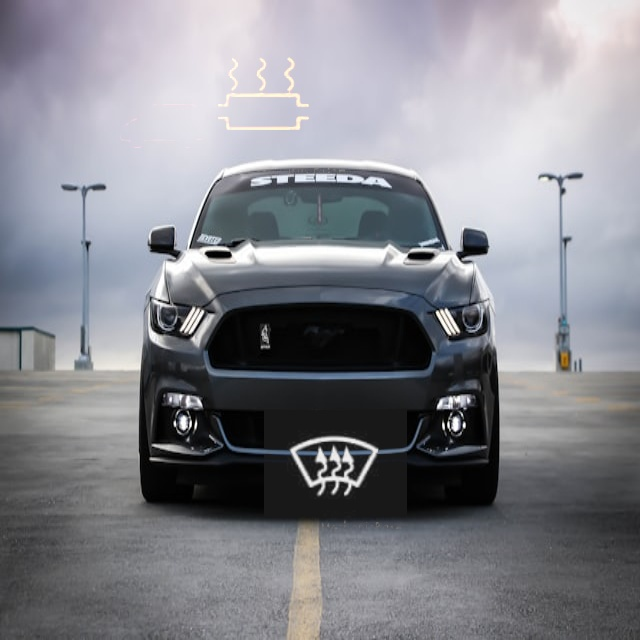symbol: (174, 5, 353, 184), (264, 396, 407, 539), (100, 61, 234, 195)
